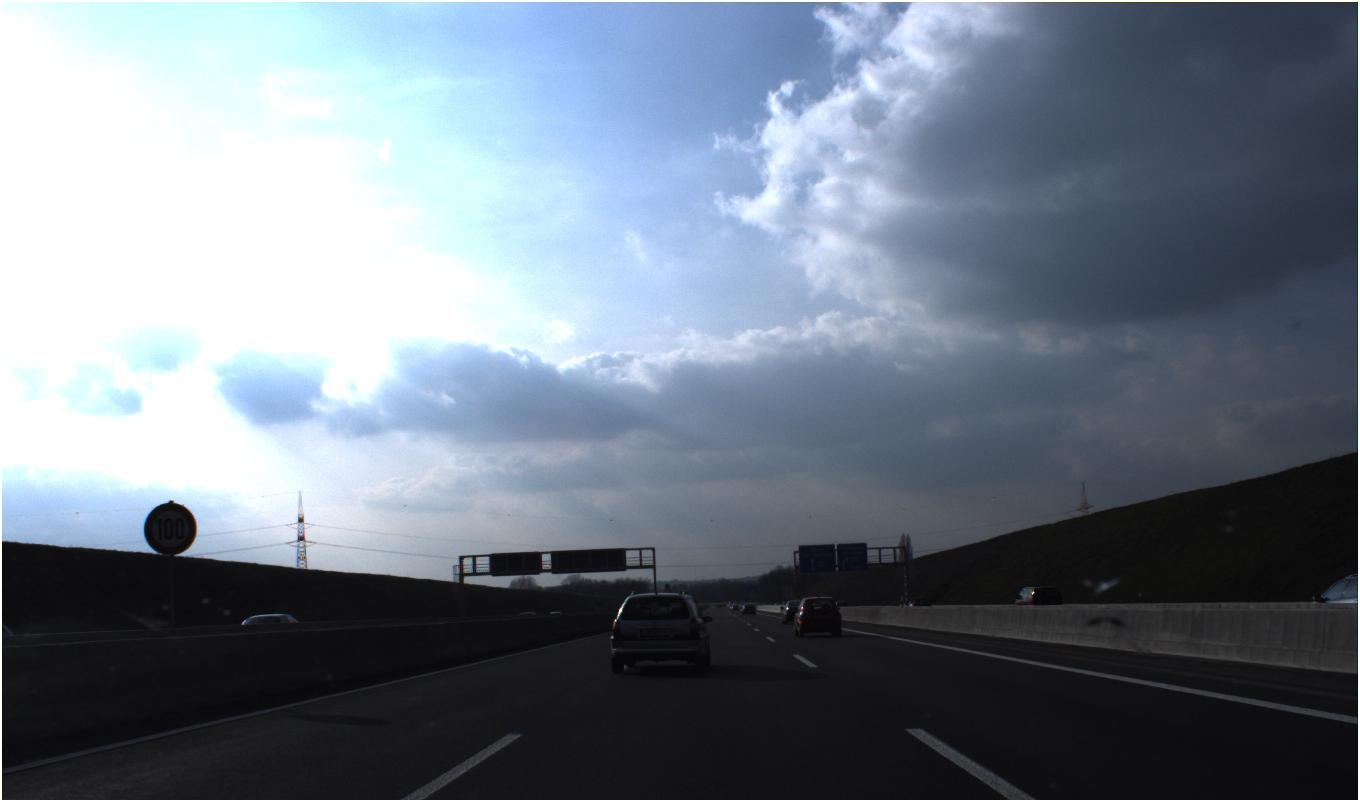prohibitory: (142, 501, 197, 556)
